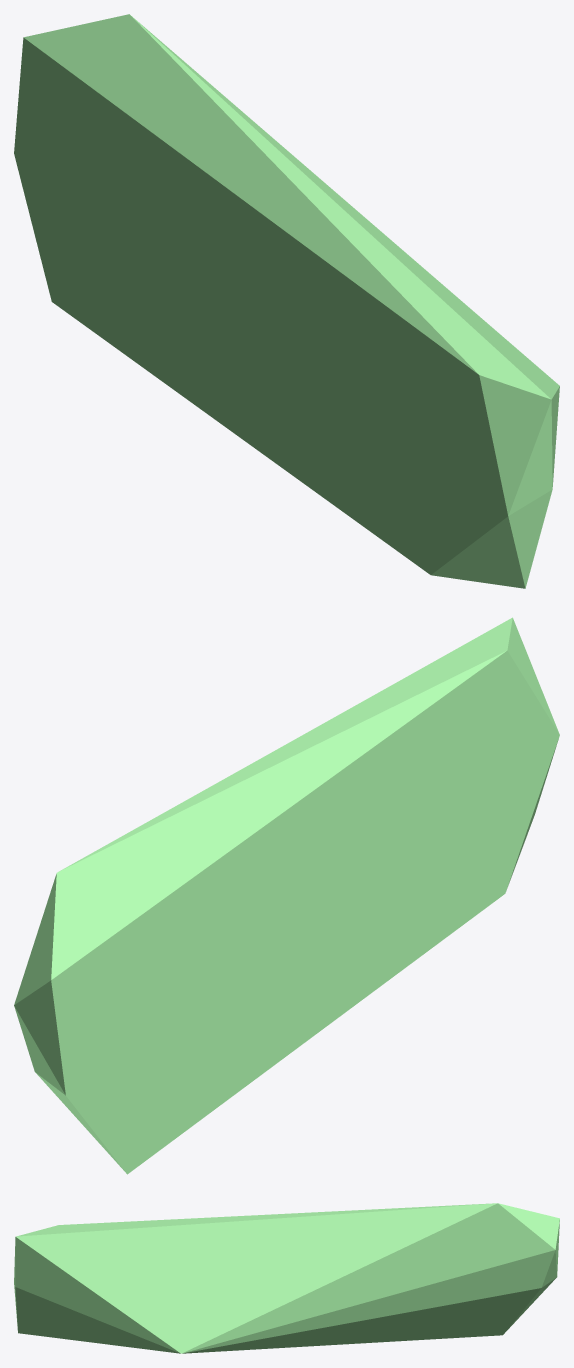
File: UMIRobot_UMIRobot_link_4_convex_coll_14.dae
3 views of the same model, one above another, from view 1: azimuth 30°, elevation 25°; view 2: azimuth 150°, elevation 25°; view 3: azimuth 270°, elevation 25° (orthographic). The views are drawn at different scales.
Parts seen in each view (by area): view 1: node; view 2: node; view 3: node.
Boxes of the visible parts, x1=… form: node: x1=14, y1=14, x2=559, y2=588; node: x1=14, y1=617, x2=559, y2=1174; node: x1=14, y1=1203, x2=559, y2=1353.
Size of the model in its own units: 0.0141 by 0.0168 by 0.0544.
